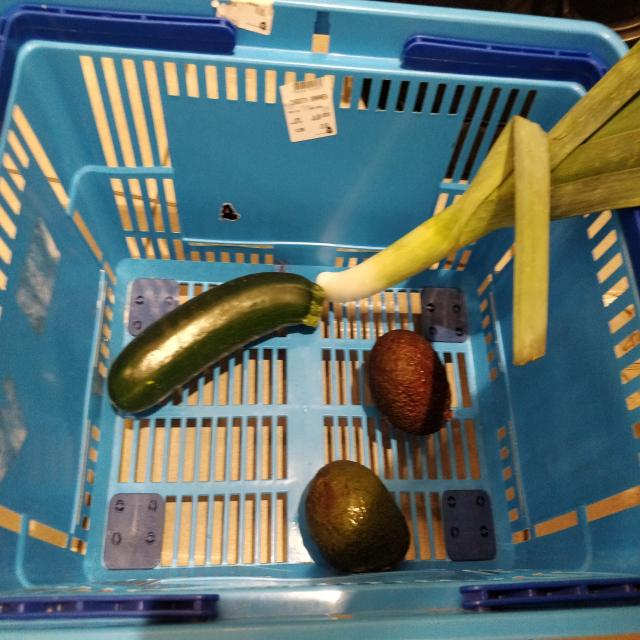Avocado: (304, 462, 412, 574), (369, 331, 454, 436)
Leek: (316, 71, 640, 367)
Yogurt cup: (107, 274, 329, 417)
